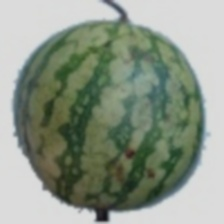watermelon: (37, 6, 188, 200)
